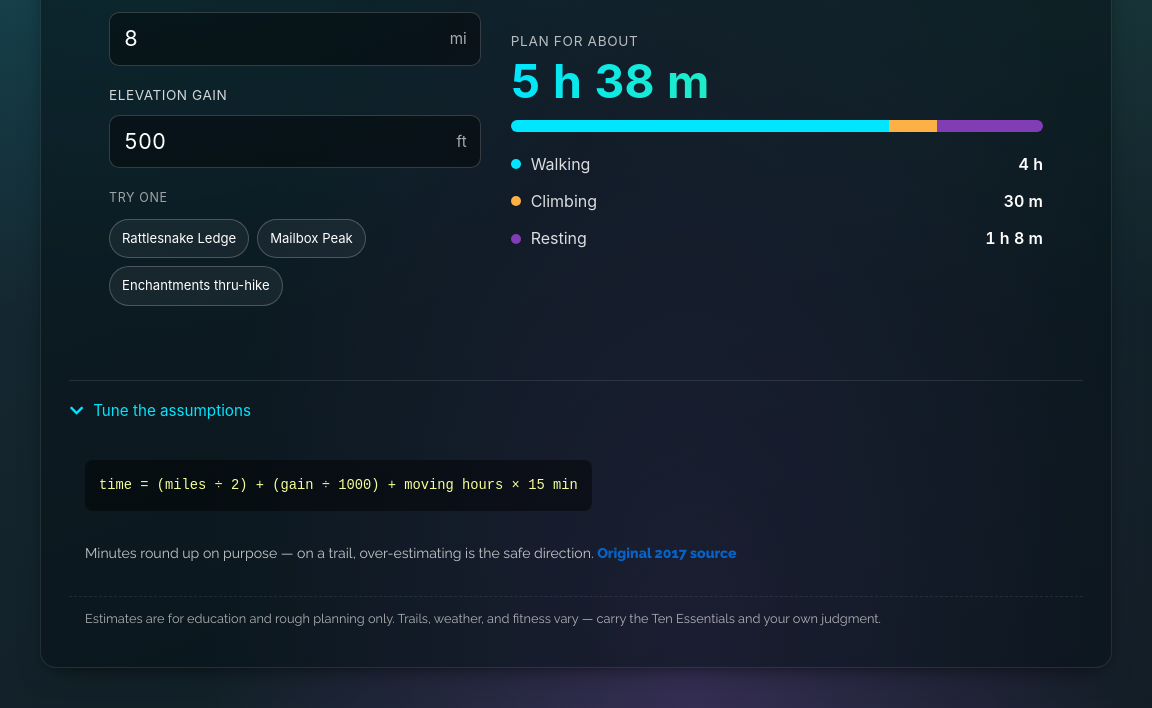
Toolkit › lets a faster pace shorten the estimate
(page scrolled)
Click the button with class "toolkit-disclosure" at (160, 410), box [69, 397, 251, 424]
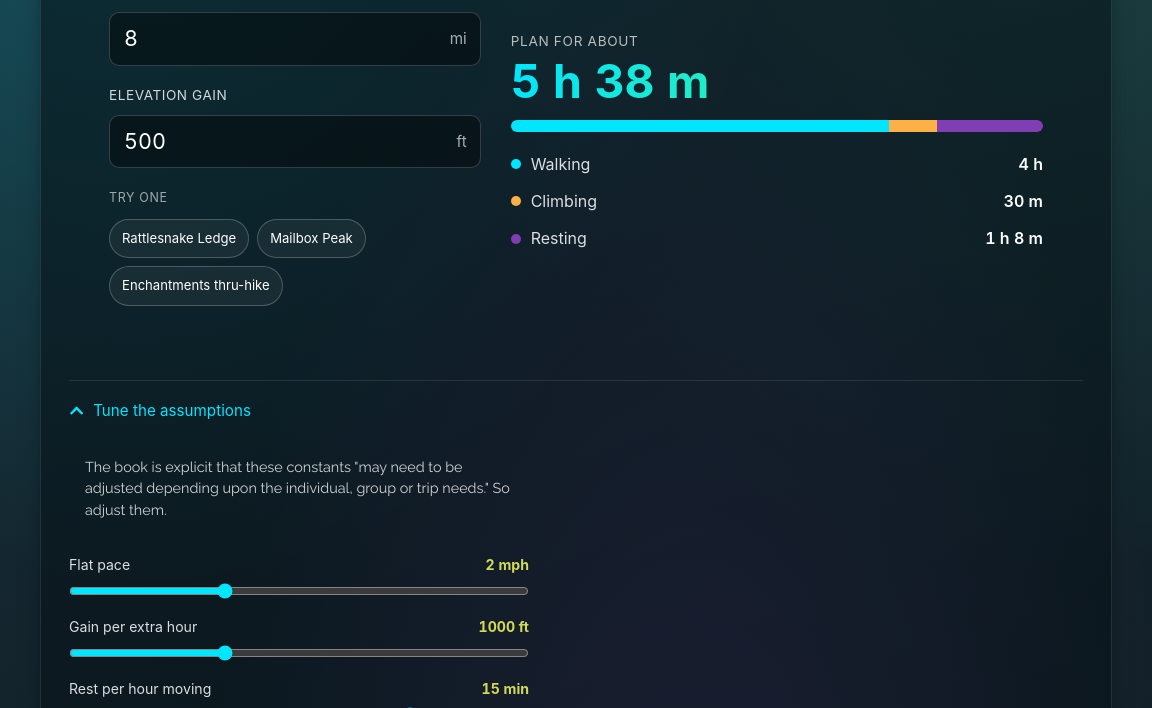
Set the slider with id "tune-paceMph" to "4" at (422, 591), box [69, 583, 529, 599]
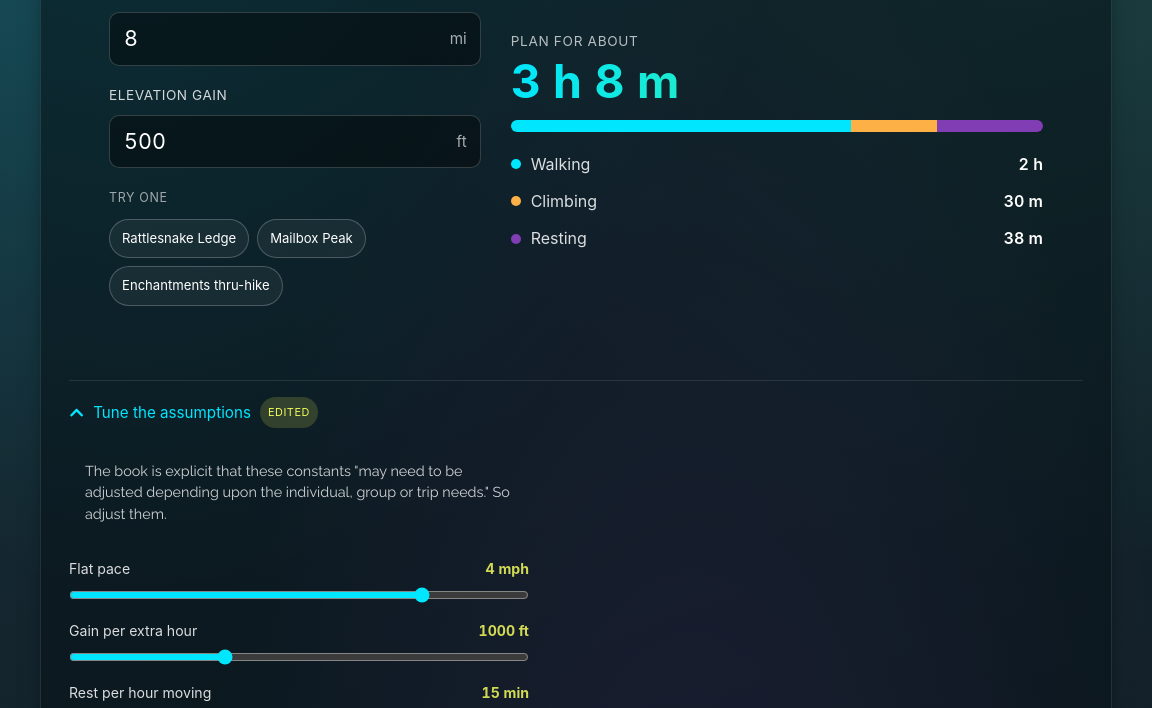
Now the text with test id "hiking-total" no longer shows "5 h 38 m"
Now the text "edited" is shown, box [260, 397, 318, 428]
